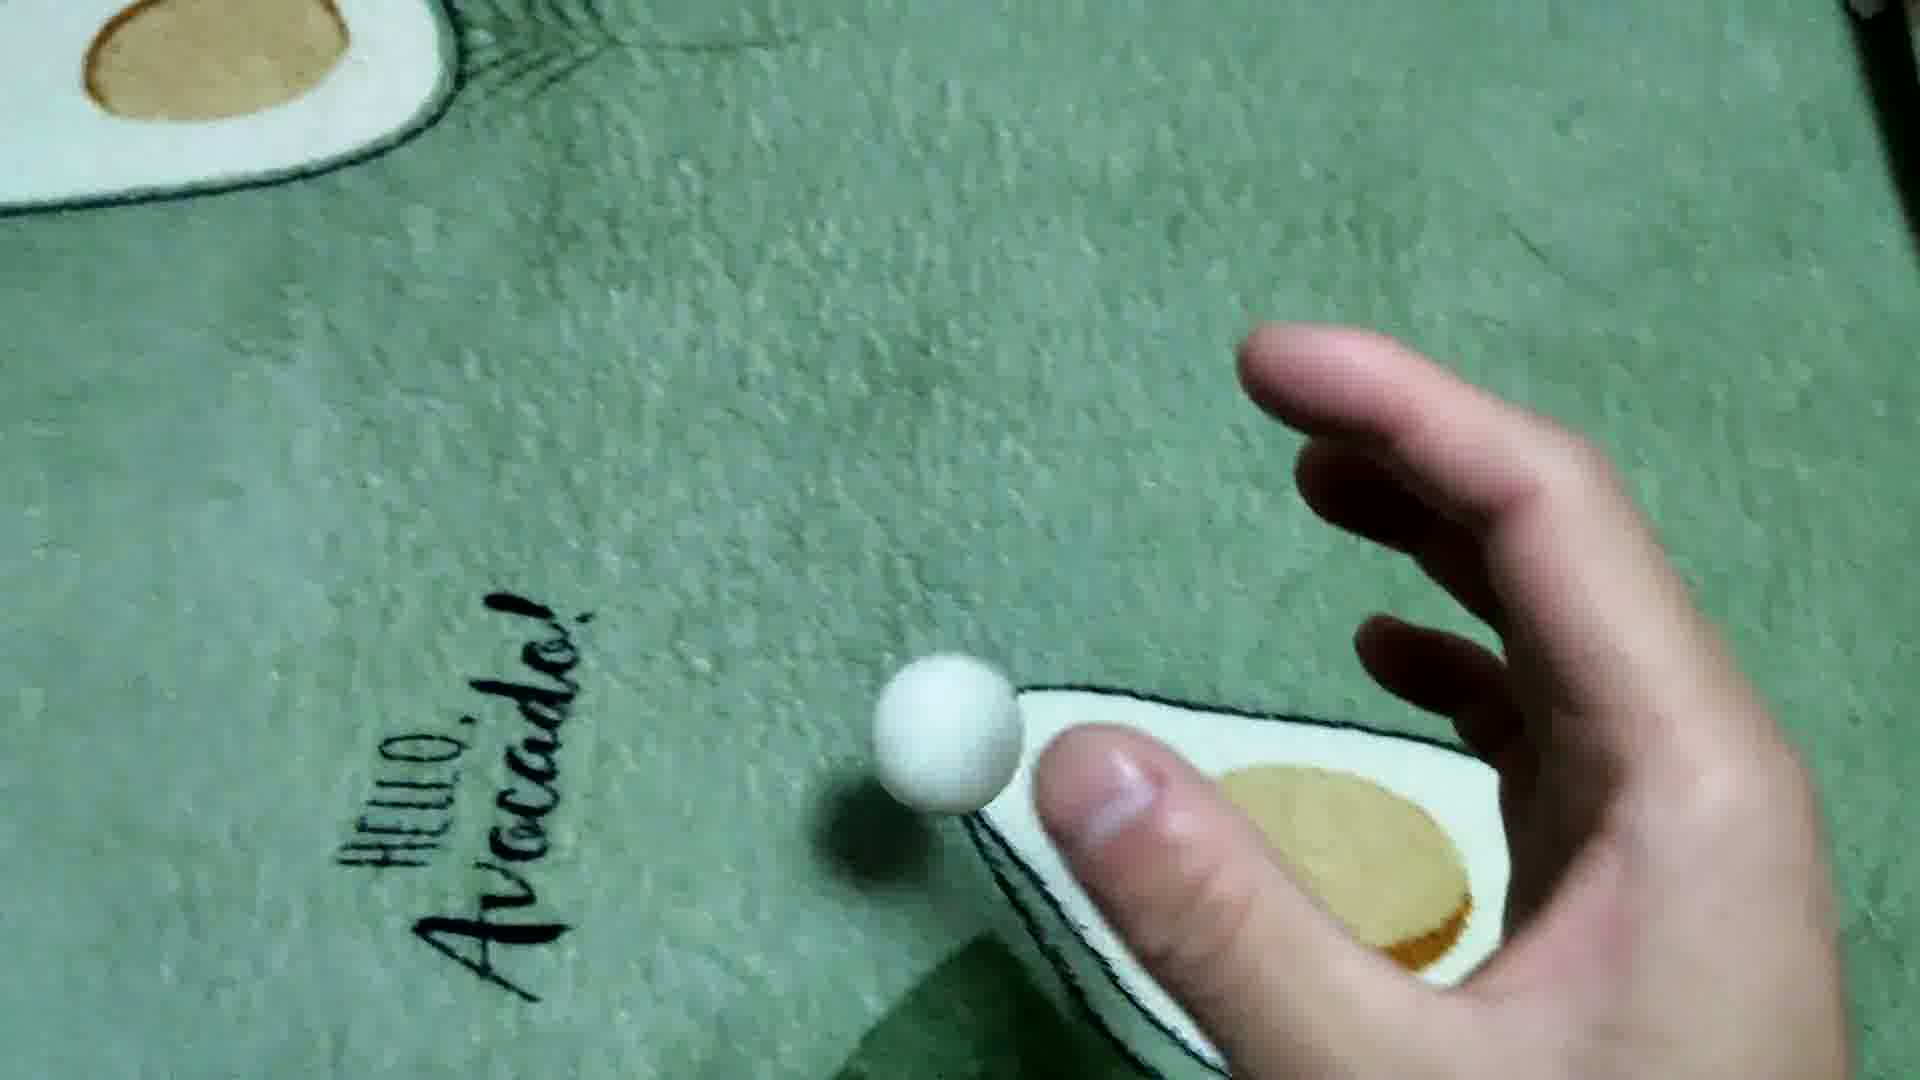Ball: (872, 647, 1025, 816)
